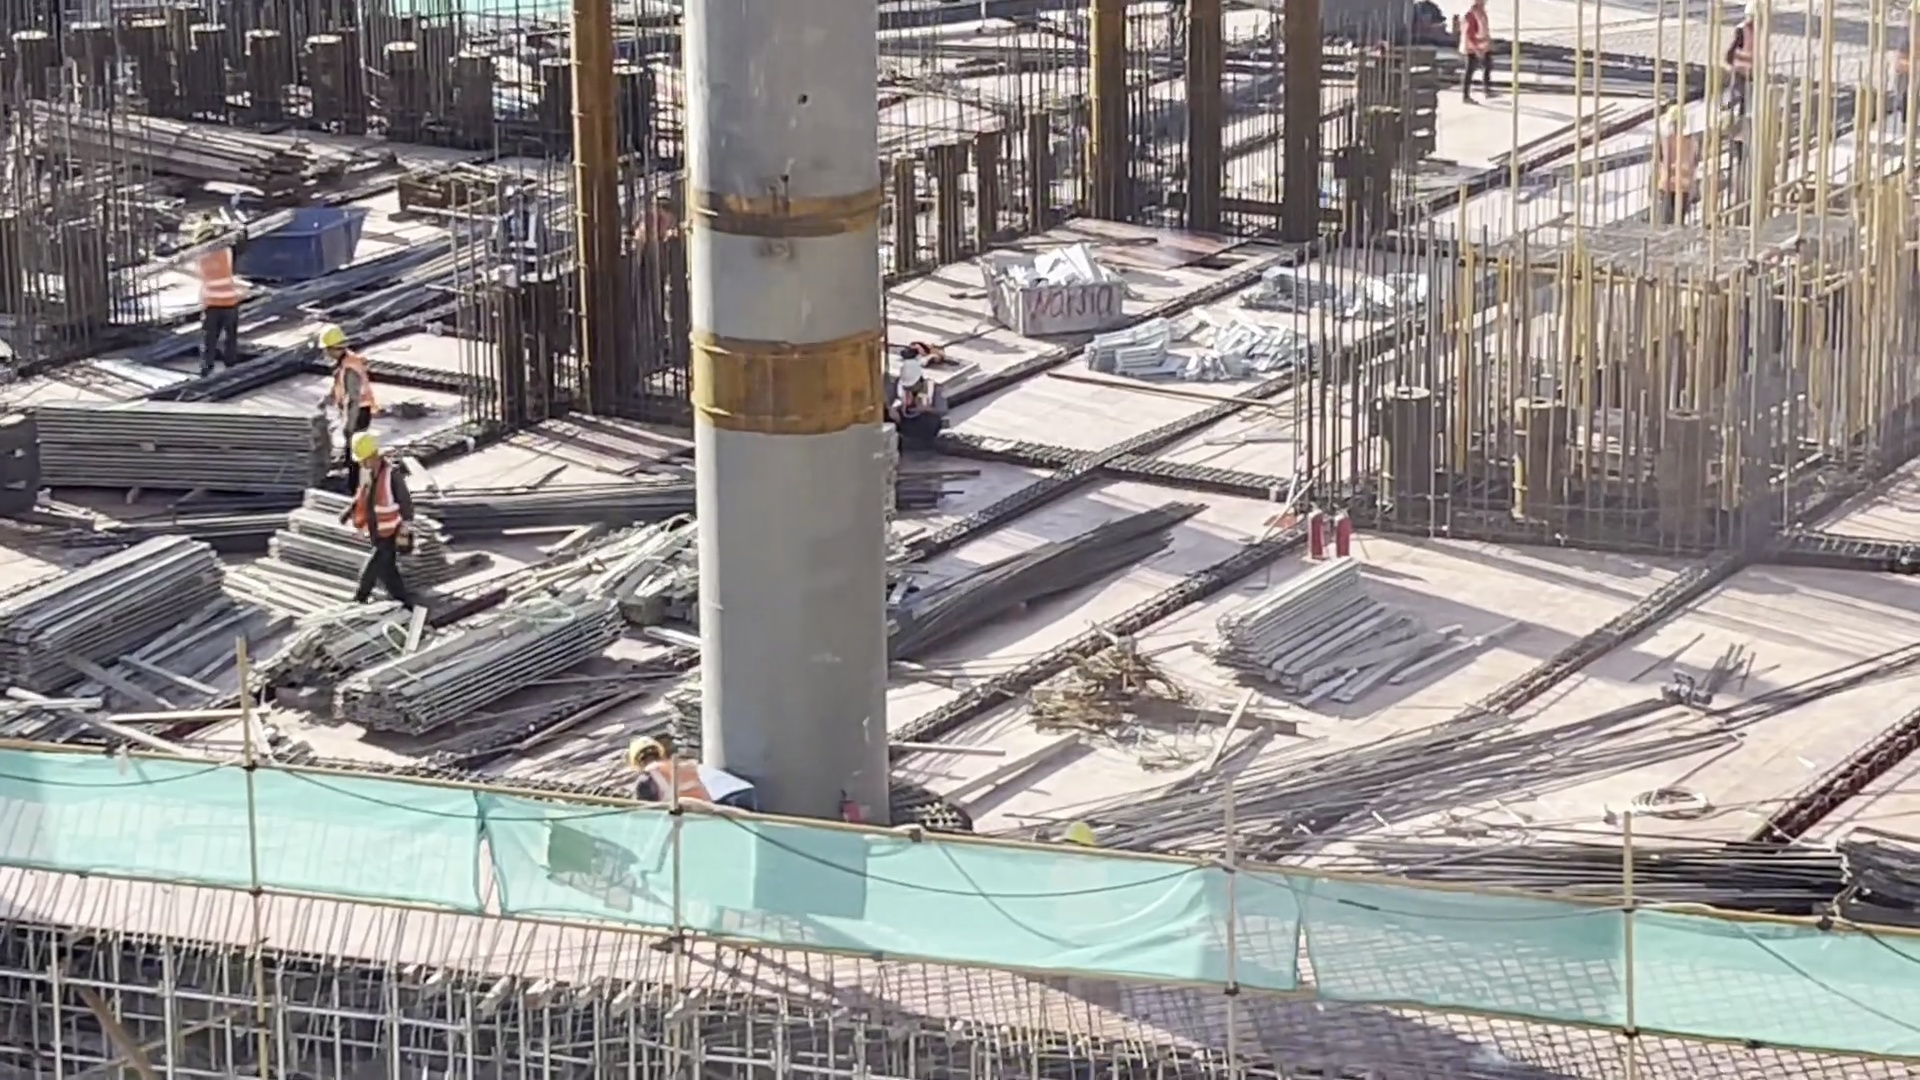helmet: (345, 424, 391, 465), (310, 328, 352, 356), (196, 230, 230, 263), (622, 735, 656, 758), (897, 360, 926, 383)
hopper: (985, 242, 1133, 342), (228, 204, 371, 289)
person: (289, 311, 393, 490), (345, 438, 440, 605), (599, 716, 729, 824), (191, 232, 259, 382), (871, 338, 947, 438), (1723, 1, 1770, 126), (1450, 1, 1507, 98)
vest: (321, 365, 382, 419), (630, 757, 696, 804), (352, 469, 400, 534), (203, 253, 230, 305)
wood: (292, 534, 621, 739), (15, 378, 354, 539), (1215, 557, 1444, 716), (6, 539, 228, 686)
